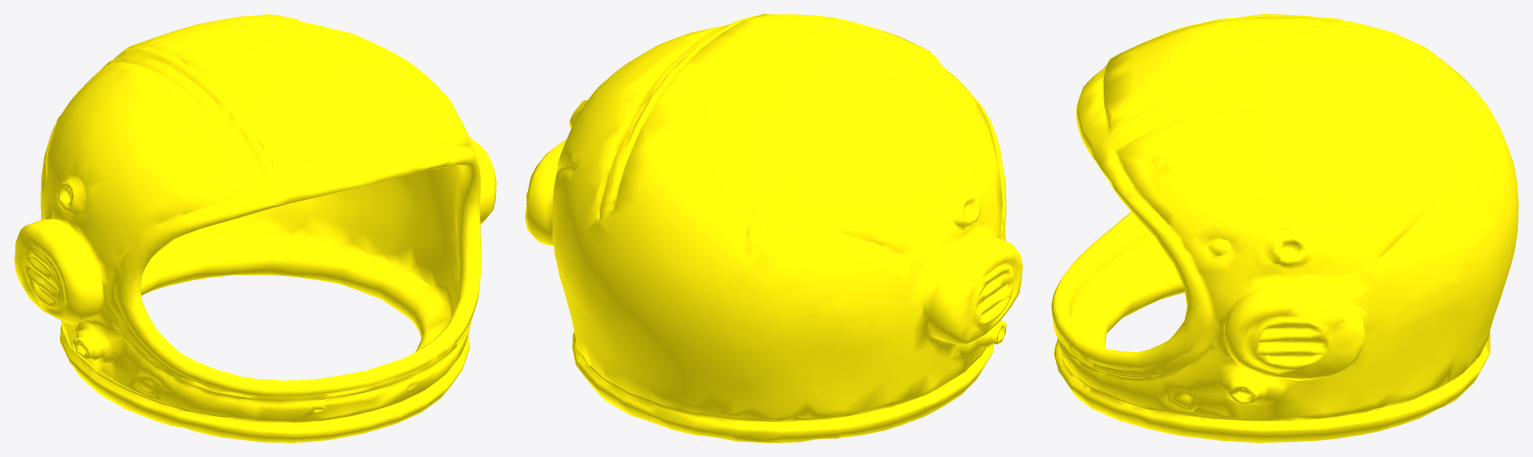
Rendered from Space-Helmet-Gold.glb.
3 views of the same model, side by side, from view 1: azimuth 30°, elevation 25°; view 2: azimuth 150°, elevation 25°; view 3: azimuth 270°, elevation 25° (orthographic). The views are drawn at different scales.
Parts seen in each view (by area): view 1: Space-Helmet-Gold; view 2: Space-Helmet-Gold; view 3: Space-Helmet-Gold.
Part boxes in pixels (left/top/right/bottom): Space-Helmet-Gold: left=14, top=14, right=496, bottom=442; Space-Helmet-Gold: left=525, top=14, right=1022, bottom=442; Space-Helmet-Gold: left=1051, top=14, right=1518, bottom=442.
Size of the model in its own units: 0.6948 by 0.4796 by 0.6246.
Materials: 1 (1 with a texture image).
